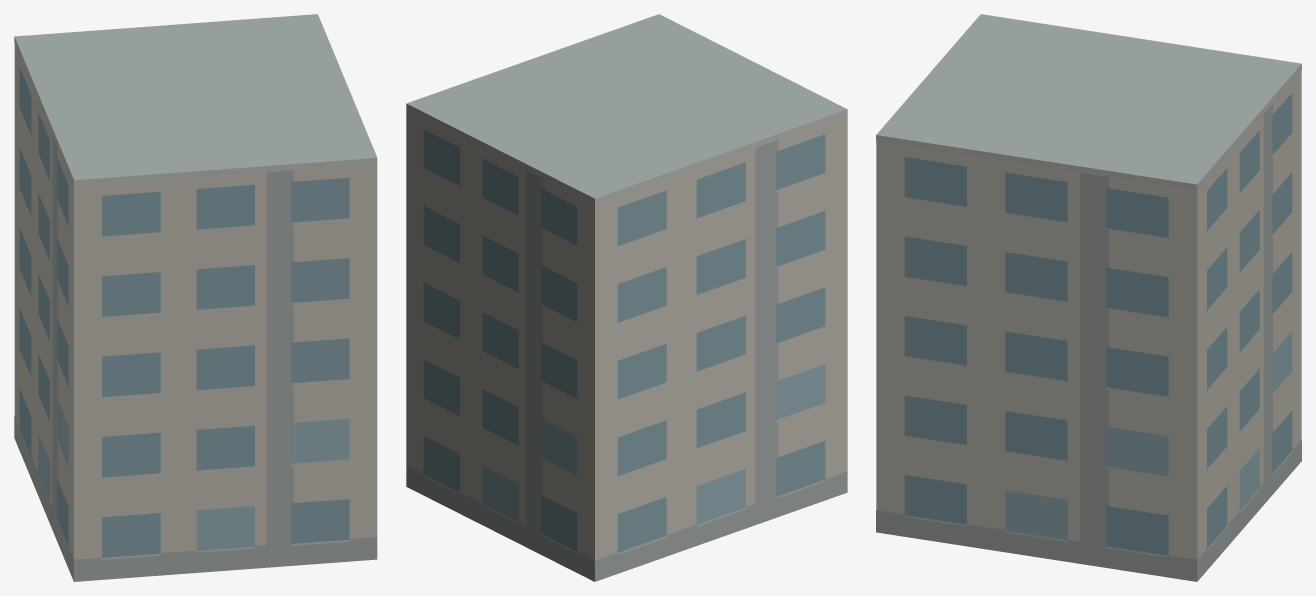
The model's file is residential-2700792b-867e-4d12-9743-d49d18d726cb.glb.
3 renders of one model, left to right at view 1: azimuth 30°, elevation 25°; view 2: azimuth 150°, elevation 25°; view 3: azimuth 270°, elevation 25°, orthographic. The views are drawn at different scales.
Parts seen in each view (by area): view 1: residential-2700792b-867e-4d12-9743-d49d18d726cb.tmp; view 2: residential-2700792b-867e-4d12-9743-d49d18d726cb.tmp; view 3: residential-2700792b-867e-4d12-9743-d49d18d726cb.tmp.
Boxes of the visible parts, x1,y1,x2,y2 form: residential-2700792b-867e-4d12-9743-d49d18d726cb.tmp: (14,14,377,581); residential-2700792b-867e-4d12-9743-d49d18d726cb.tmp: (406,14,847,581); residential-2700792b-867e-4d12-9743-d49d18d726cb.tmp: (876,14,1301,581).
Size of the model in its own units: 14.04 by 15.25 by 14.82.
